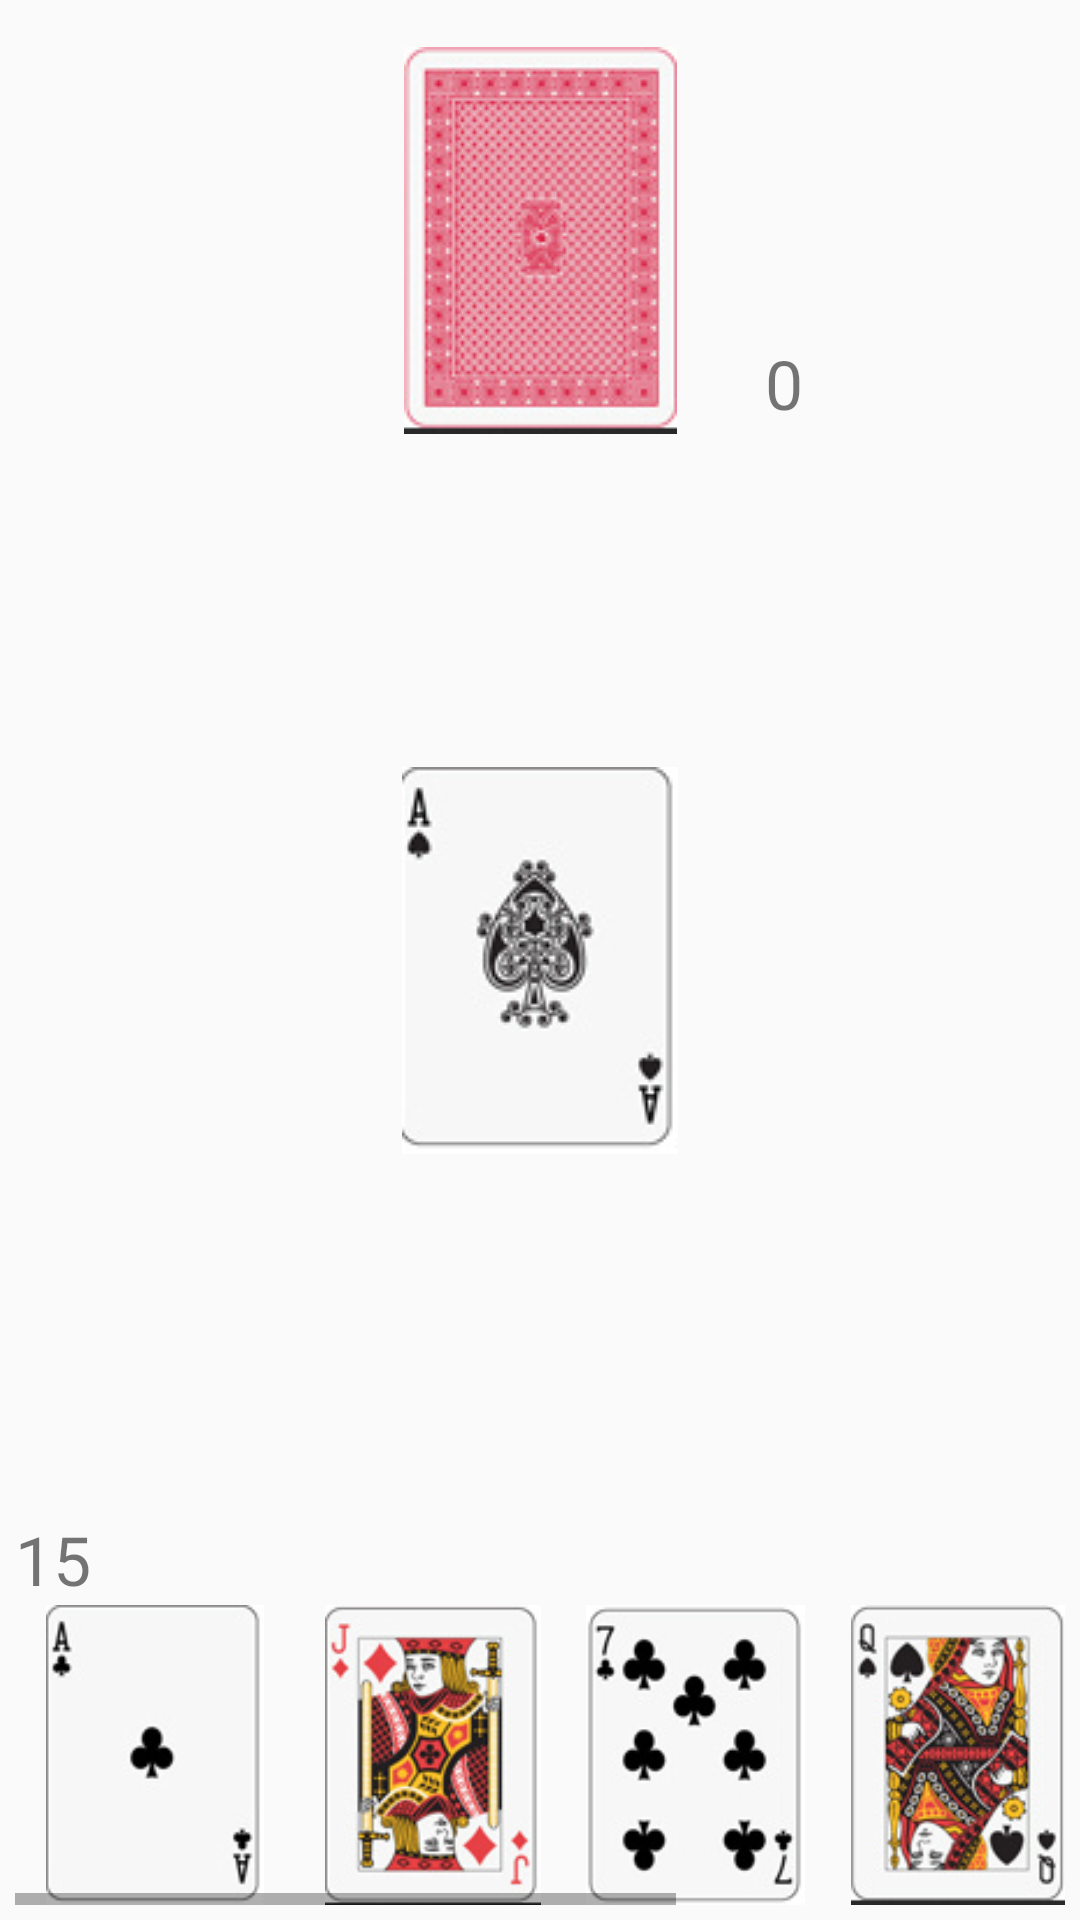

Named icons in this screenshot (1080px x 1920px) and their bounding boxes, (x1, y1, x2, y2):
ace clubs: (15, 1605, 294, 1905)
jack diamond: (331, 1623, 530, 1885)
seven clubs: (595, 1625, 793, 1885)
